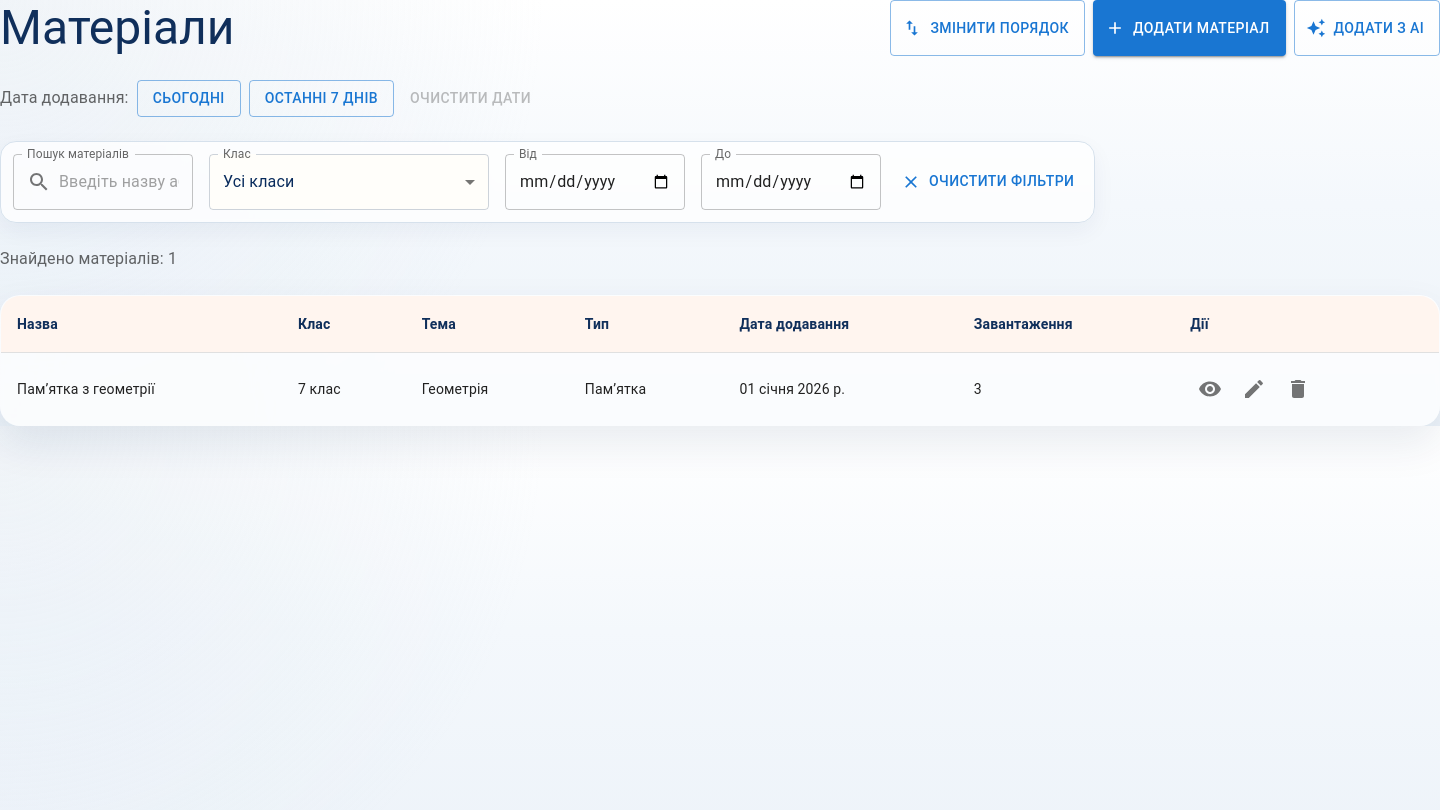
Test case: AdminDocumentsPage › shows a clear validation error and does not query an invalid custom range
This screenshot has width=1440, height=810.
Expected: the text "Пам’ятка з геометрії" is shown, [0,352,282,425]
Type "2026-09-10" into the date field labelled "Від". click: x=595, y=182
box: [505,154,685,210]
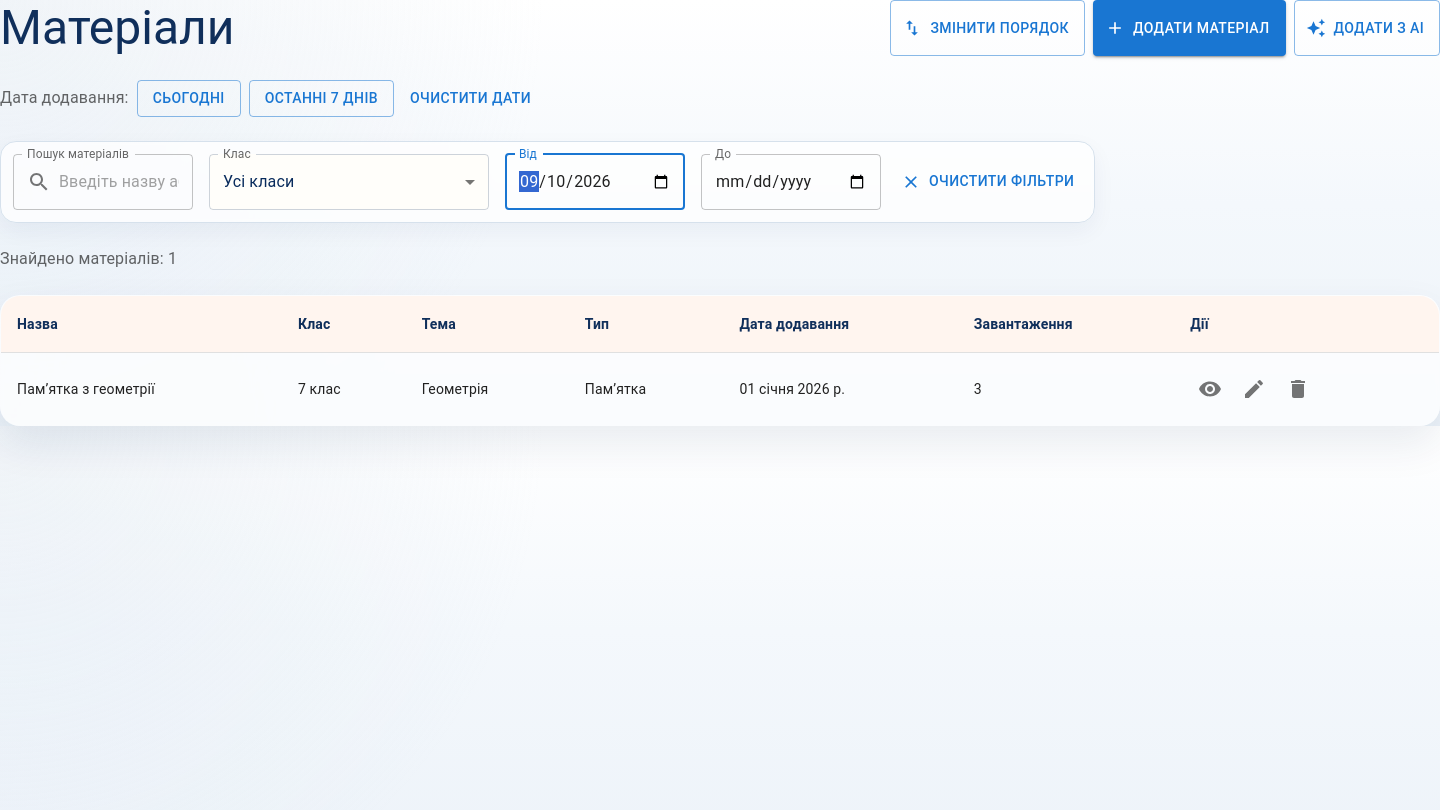
Type "2026-09-09" into the date field labelled "До". click: x=791, y=182
box: [701,154,881,210]
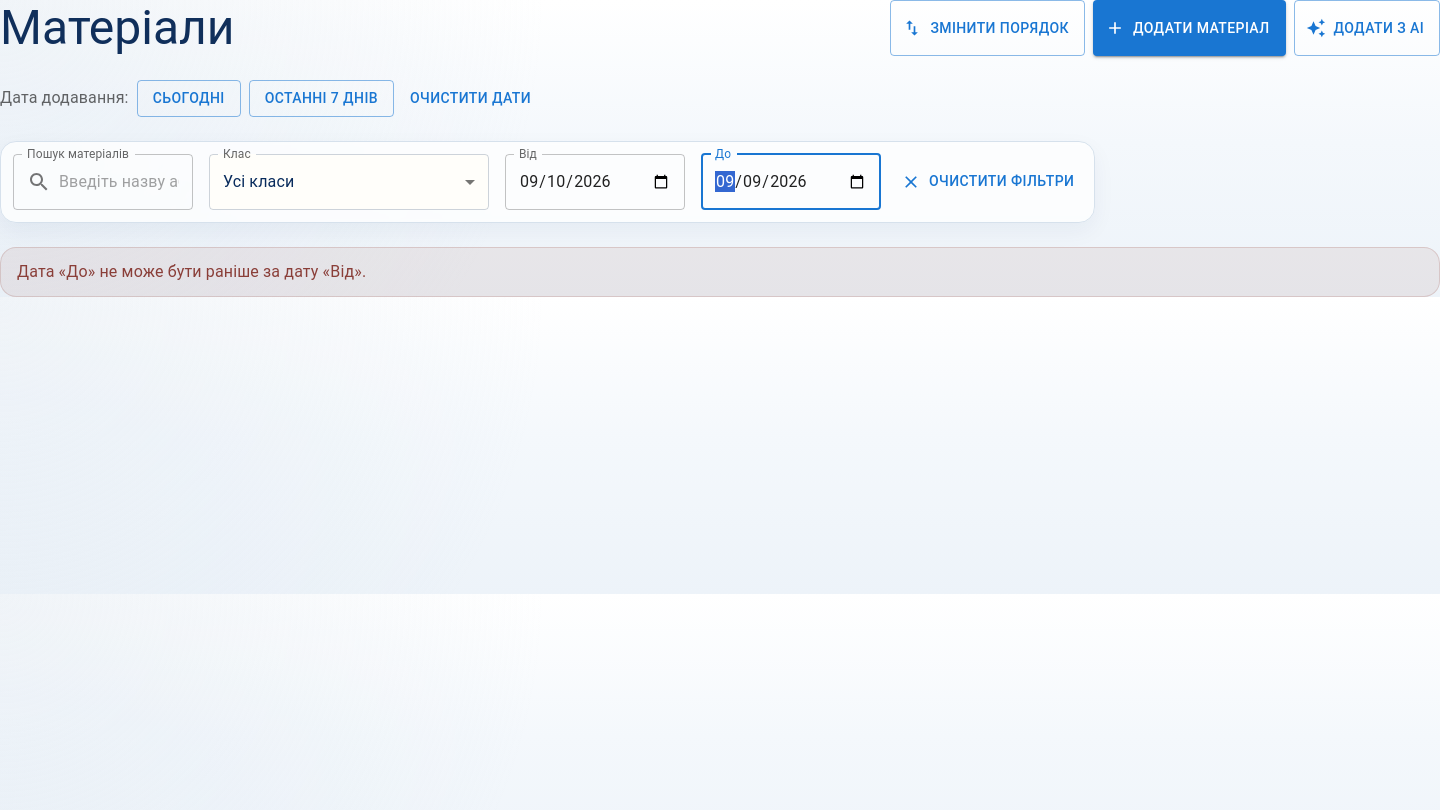
Expected: the message reads "Дата «До» не може бути раніше за дату «Від».", [17,262,366,280]
